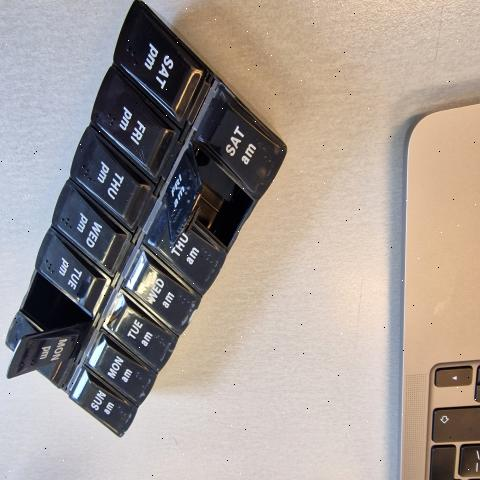Open: (21, 269, 91, 332)
